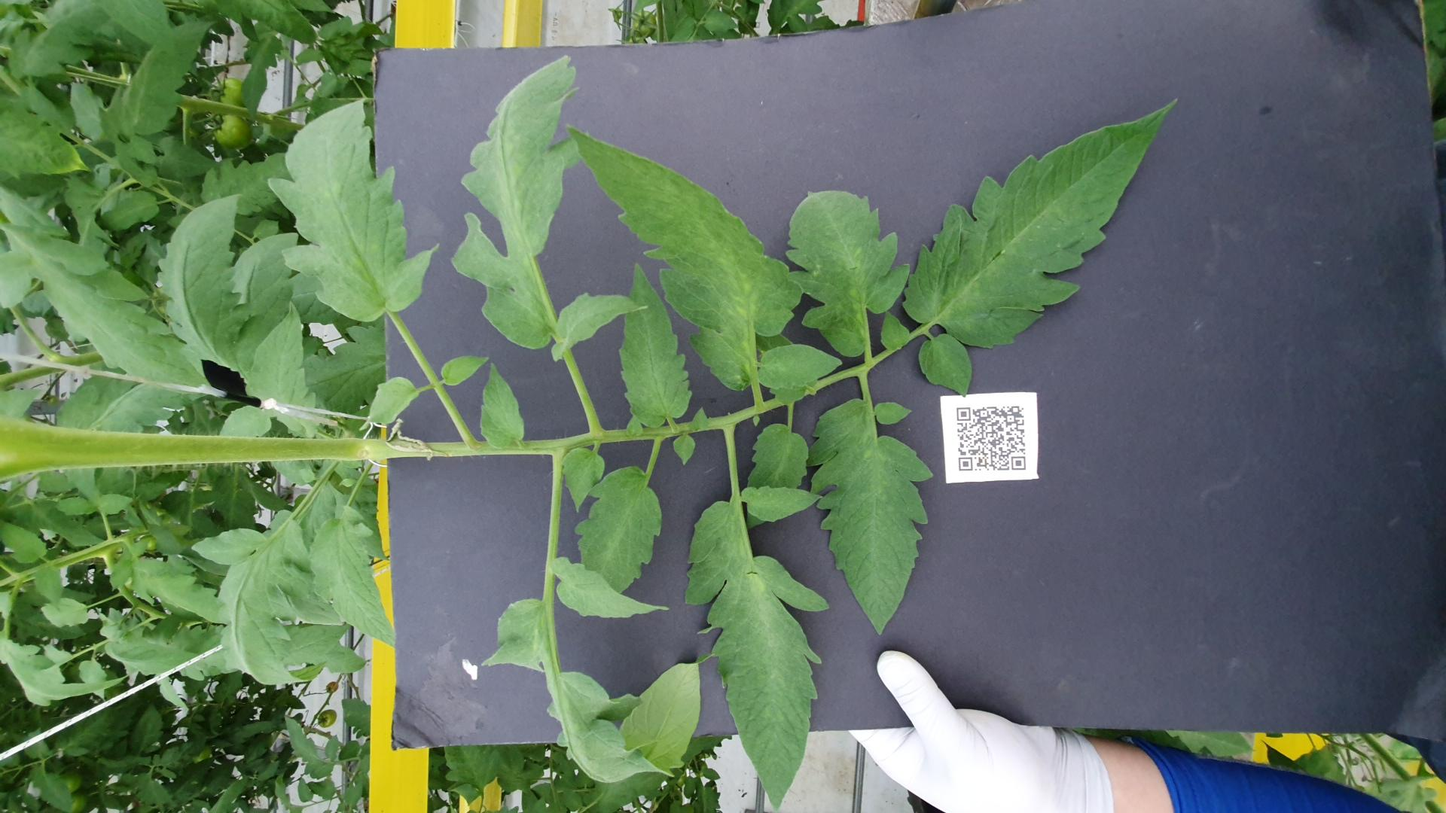Healthy: (825, 507, 1273, 663), (4, 384, 581, 466), (51, 270, 382, 394), (867, 151, 1274, 246), (824, 253, 1349, 326), (755, 0, 1047, 115), (317, 453, 739, 525), (228, 108, 539, 192), (786, 89, 1103, 142), (722, 130, 1034, 179), (295, 173, 547, 222), (686, 347, 980, 389), (1203, 68, 1414, 123), (392, 323, 617, 372), (336, 62, 494, 125), (346, 309, 456, 377), (803, 310, 926, 365), (506, 419, 693, 455), (650, 269, 803, 295), (753, 425, 835, 473), (740, 516, 852, 547), (536, 315, 653, 340), (692, 205, 777, 236), (761, 248, 815, 275), (825, 495, 893, 511)
